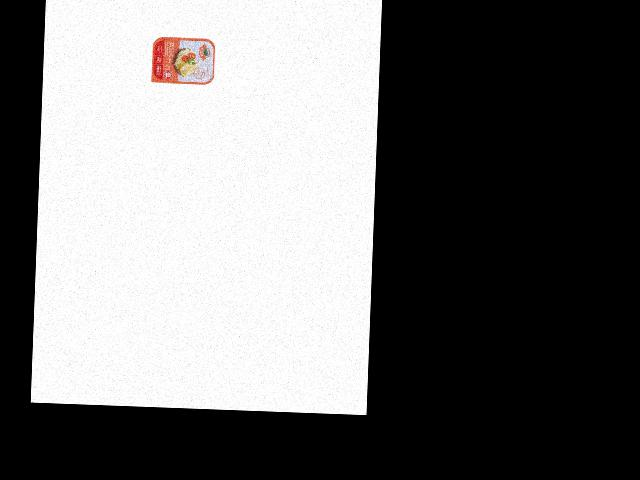cheese: (147, 33, 217, 86)
